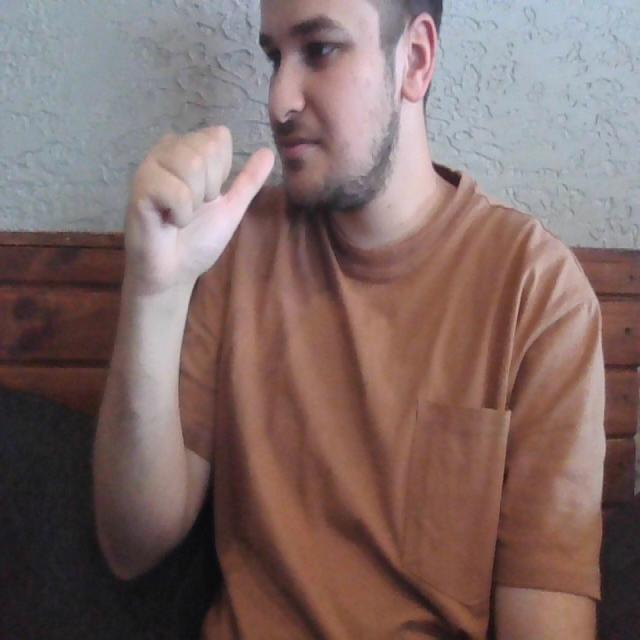icmek: (74, 100, 304, 280)
